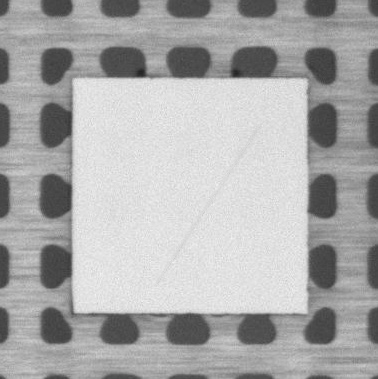DIE_CRACK: (156, 124, 260, 286)
